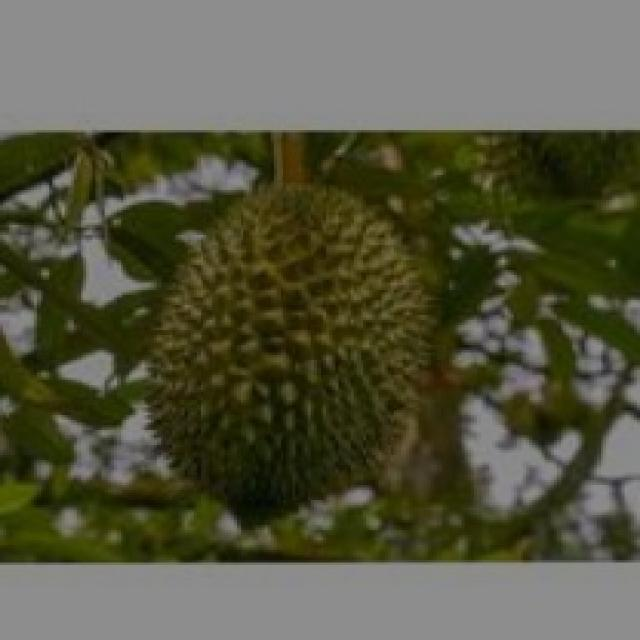fruit: (99, 158, 483, 538)
